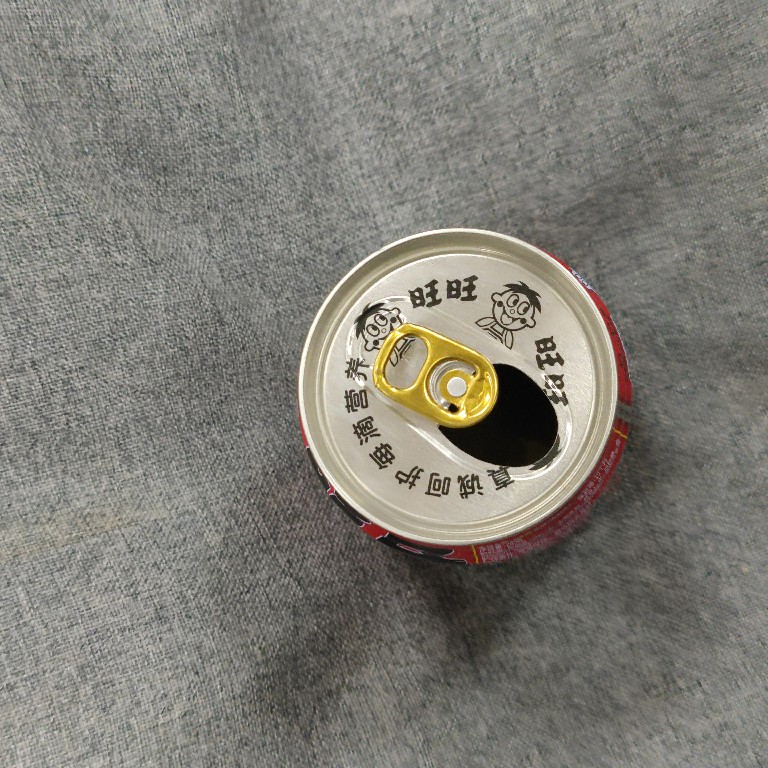can: (289, 219, 646, 574)
